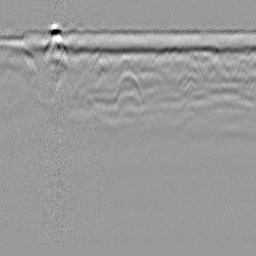cavity: (111, 67, 144, 107)
